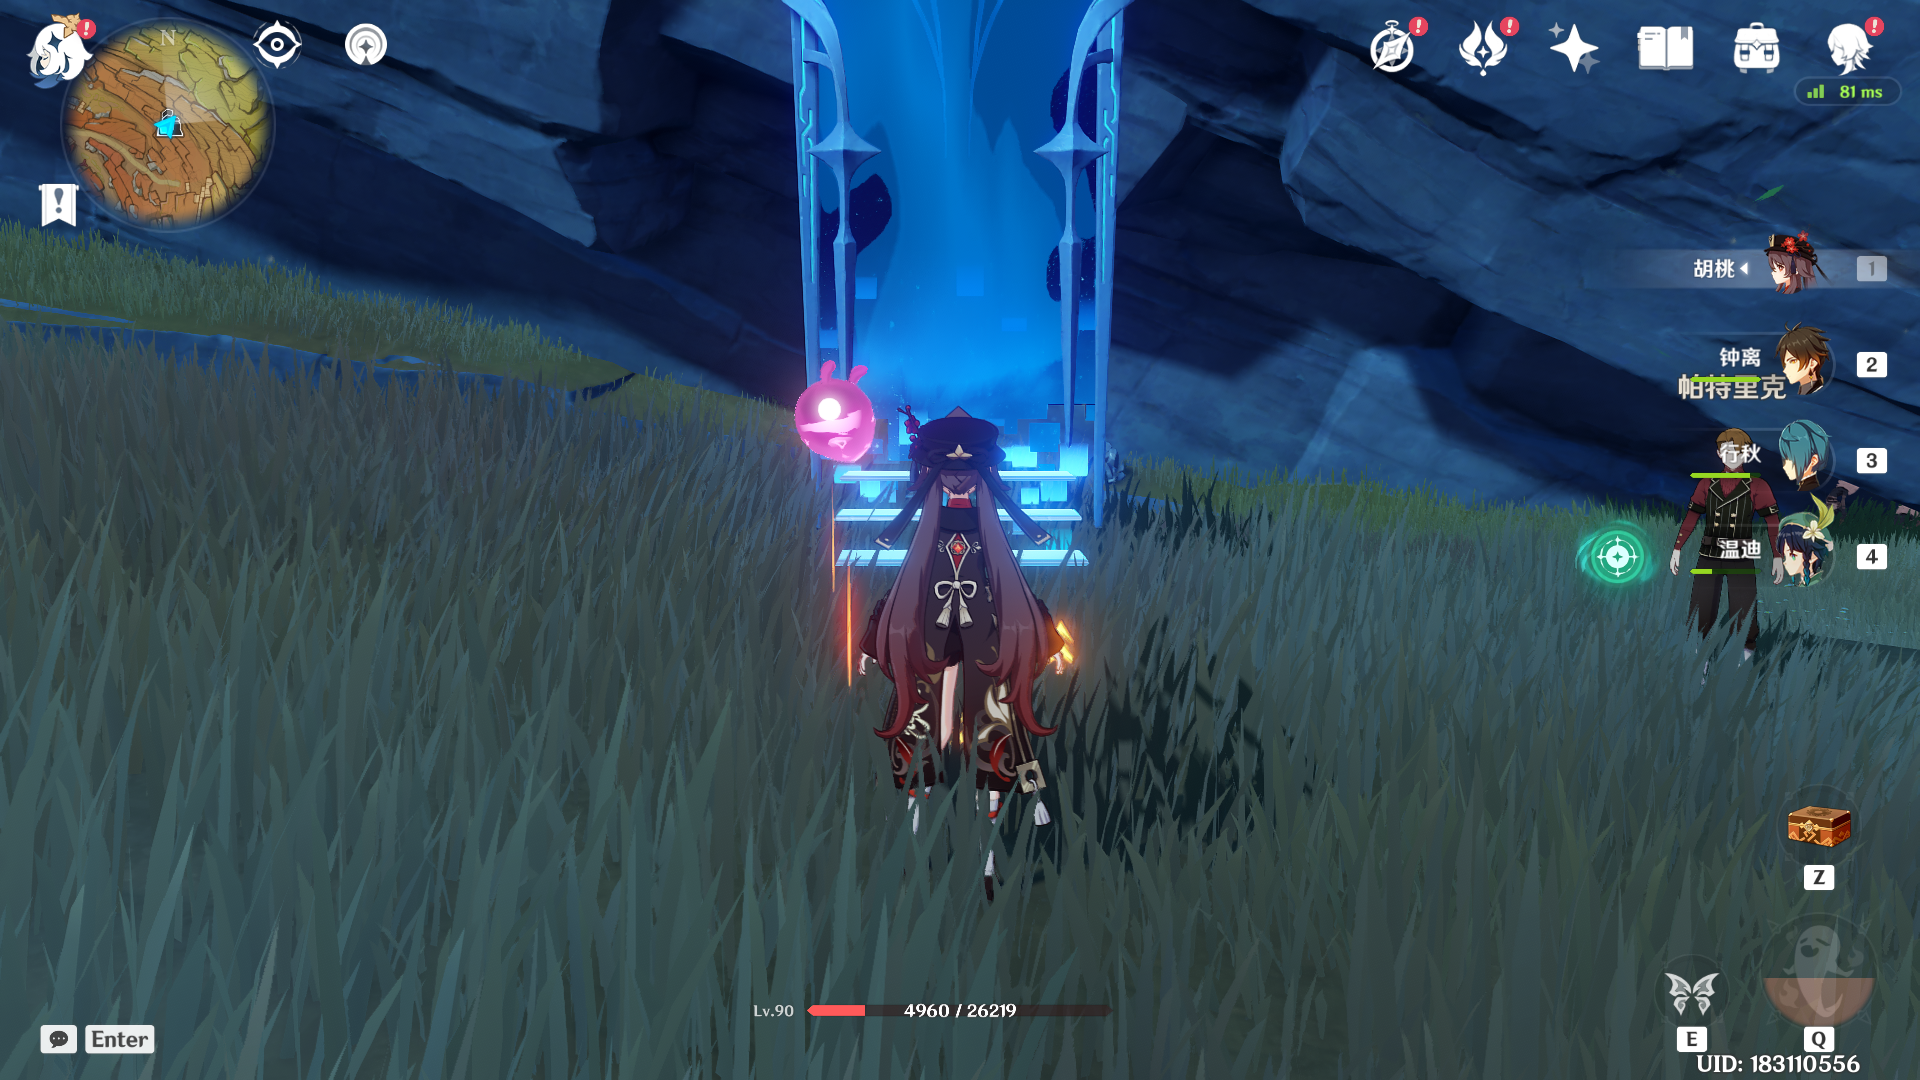character: (823, 402, 1098, 927)
